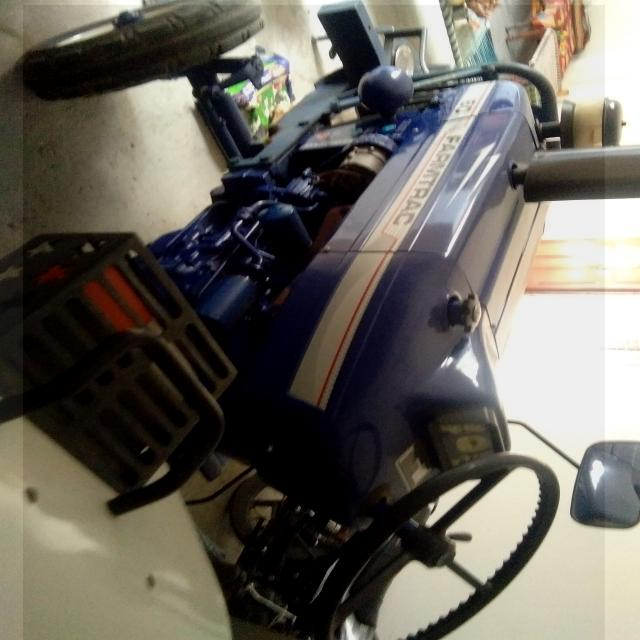Tractot: (23, 5, 605, 640)
